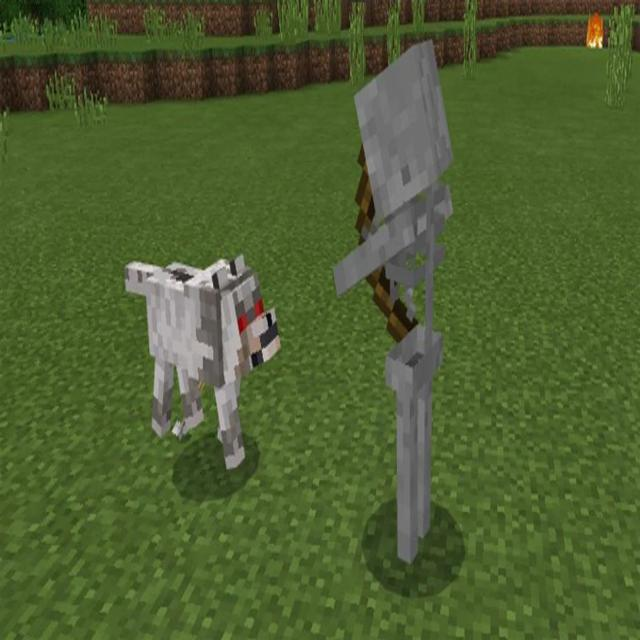Wolf: (119, 244, 284, 476)
